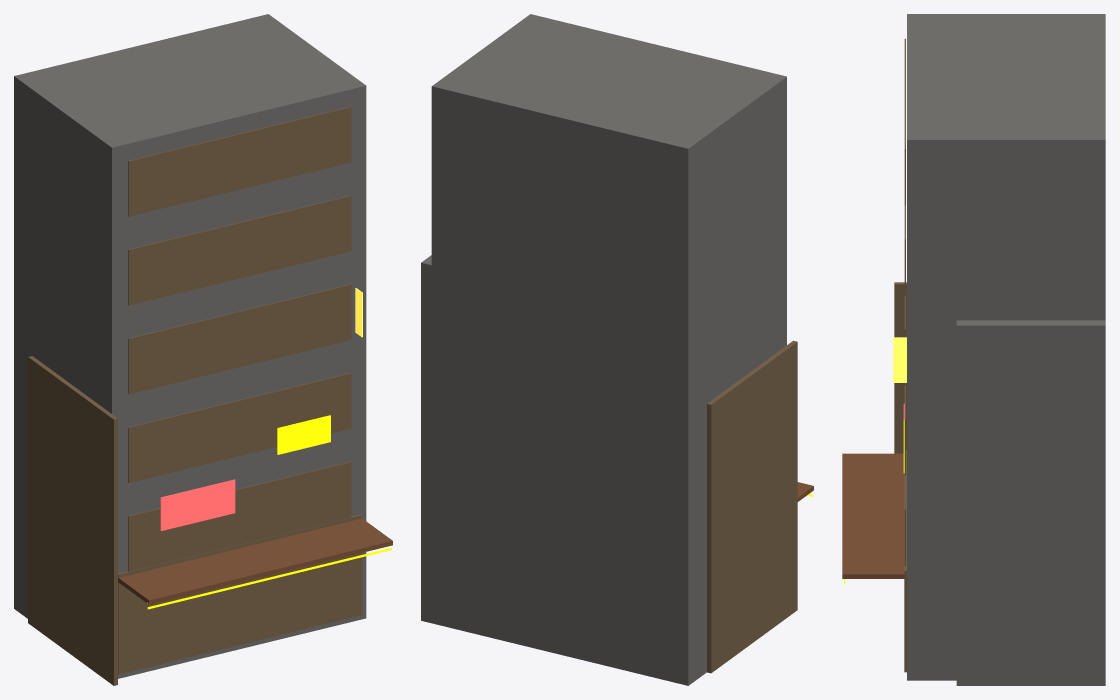
The model's file is SLUM_BLD_ShopHouse_MD.glb.
The picture shows the model from 3 angles, left to right: view 1: azimuth 30°, elevation 25°; view 2: azimuth 150°, elevation 25°; view 3: azimuth 270°, elevation 25°; orthographic projection.
Parts seen in each view (by area): view 1: SLUM_BLD_ShopHouse_MD; view 2: SLUM_BLD_ShopHouse_MD; view 3: SLUM_BLD_ShopHouse_MD.
Part boxes in pixels (box(x1,y1,x2,y2)): SLUM_BLD_ShopHouse_MD: box(14, 14, 392, 685); SLUM_BLD_ShopHouse_MD: box(421, 14, 813, 685); SLUM_BLD_ShopHouse_MD: box(842, 14, 1105, 685).
Size of the model in its own units: 12.7 by 24 by 10.6.
